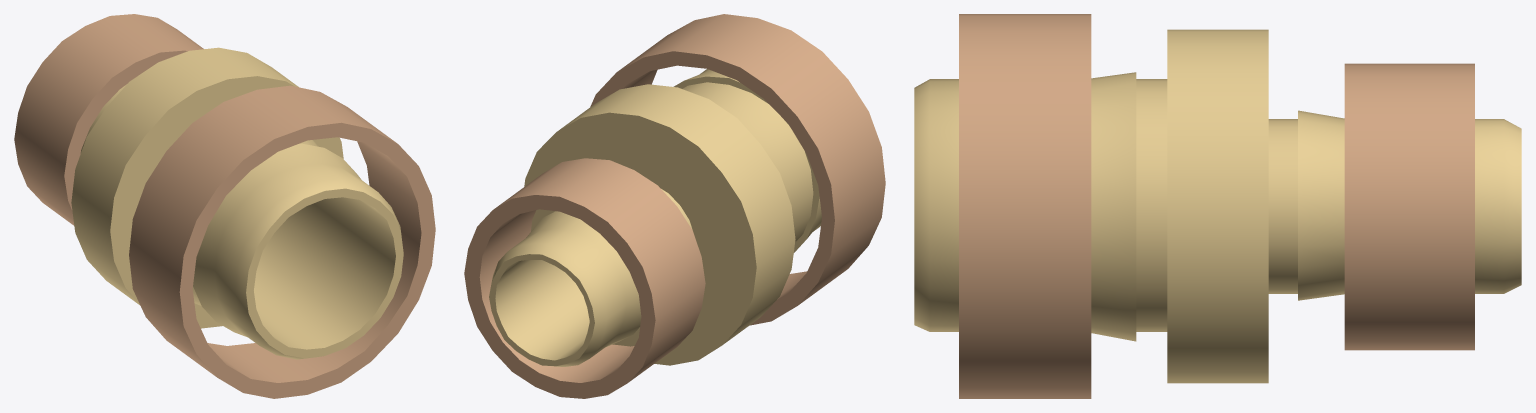
The model's file is pipes_supply__shutoff_extra-attic+none_and_plumbing-pex.glb.
The picture shows the model from 3 angles, left to right: view 1: azimuth 30°, elevation 25°; view 2: azimuth 150°, elevation 25°; view 3: azimuth 270°, elevation 25°; orthographic projection. The views are drawn at different scales.
Visible parts, largest first — view 1: fit_elbow_pipe_supply_cold_trunk__pex; view 2: fit_elbow_pipe_supply_cold_trunk__pex; view 3: fit_elbow_pipe_supply_cold_trunk__pex.
Part boxes in pixels (box(x1,y1,x2,y2)): fit_elbow_pipe_supply_cold_trunk__pex: box(14, 14, 435, 398); fit_elbow_pipe_supply_cold_trunk__pex: box(464, 14, 885, 398); fit_elbow_pipe_supply_cold_trunk__pex: box(914, 14, 1521, 398).
Size of the model in its own units: 0.0242 by 0.0242 by 0.0381.
